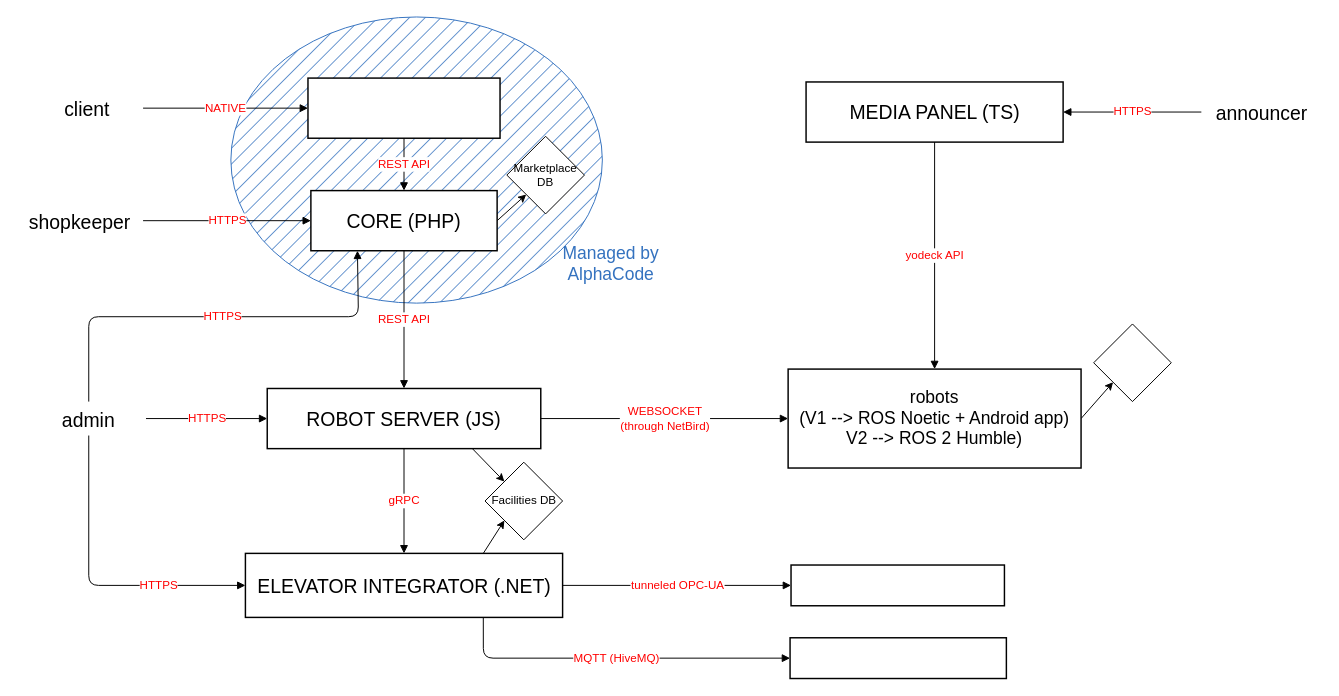
Image size: 1339x696. Some labels were removed from this diagram. The centre of each missing label's shape, as x and y in pixels:
"automatic doors (ESP32)" goes at pixel 898 658.
"elevators (MikroTik hEX)" goes at pixel 897 585.
"Maps DB" goes at pixel 1132 362.
"MOBILE APP (TS)" goes at pixel 403 108.
